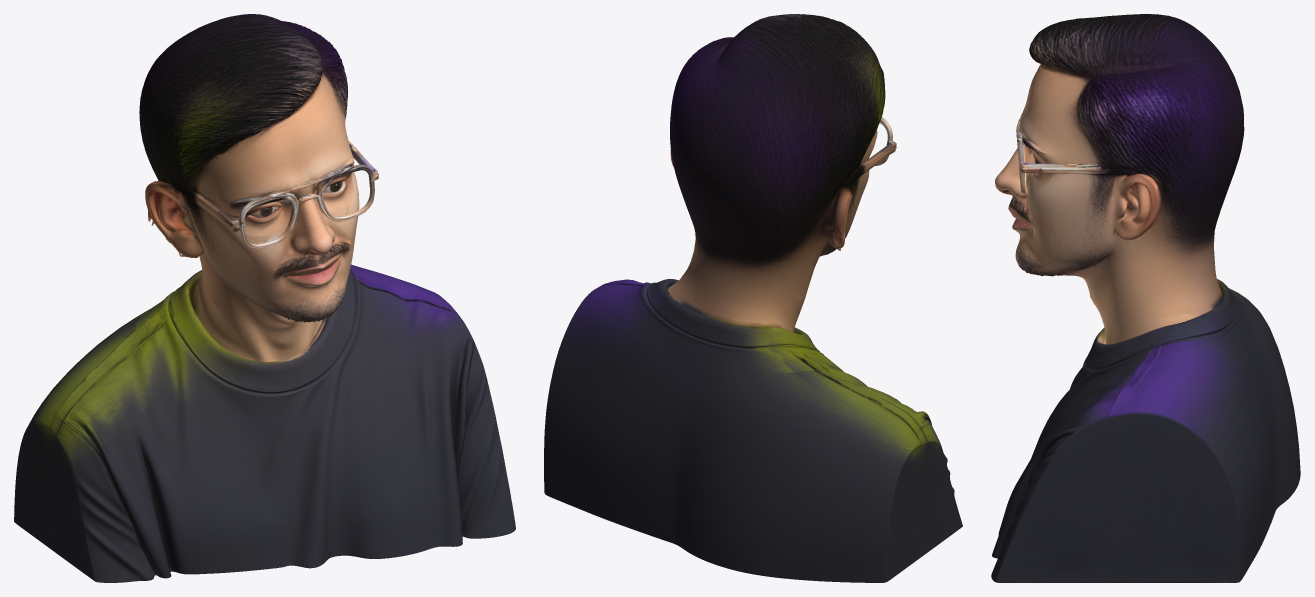
File: saksham-model.glb
3 views of the same model, side by side, from view 1: azimuth 30°, elevation 25°; view 2: azimuth 150°, elevation 25°; view 3: azimuth 270°, elevation 25° (orthographic). The views are drawn at different scales.
Parts seen in each view (by area): view 1: node_0; view 2: node_0; view 3: node_0.
Boxes of the visible parts, x1=… form: node_0: x1=14, y1=14, x2=515, y2=582; node_0: x1=544, y1=14, x2=962, y2=582; node_0: x1=991, y1=14, x2=1300, y2=582.
Size of the model in its own units: 0.6728 by 0.8649 by 0.5125.
Materials: 1 (1 with a texture image).
